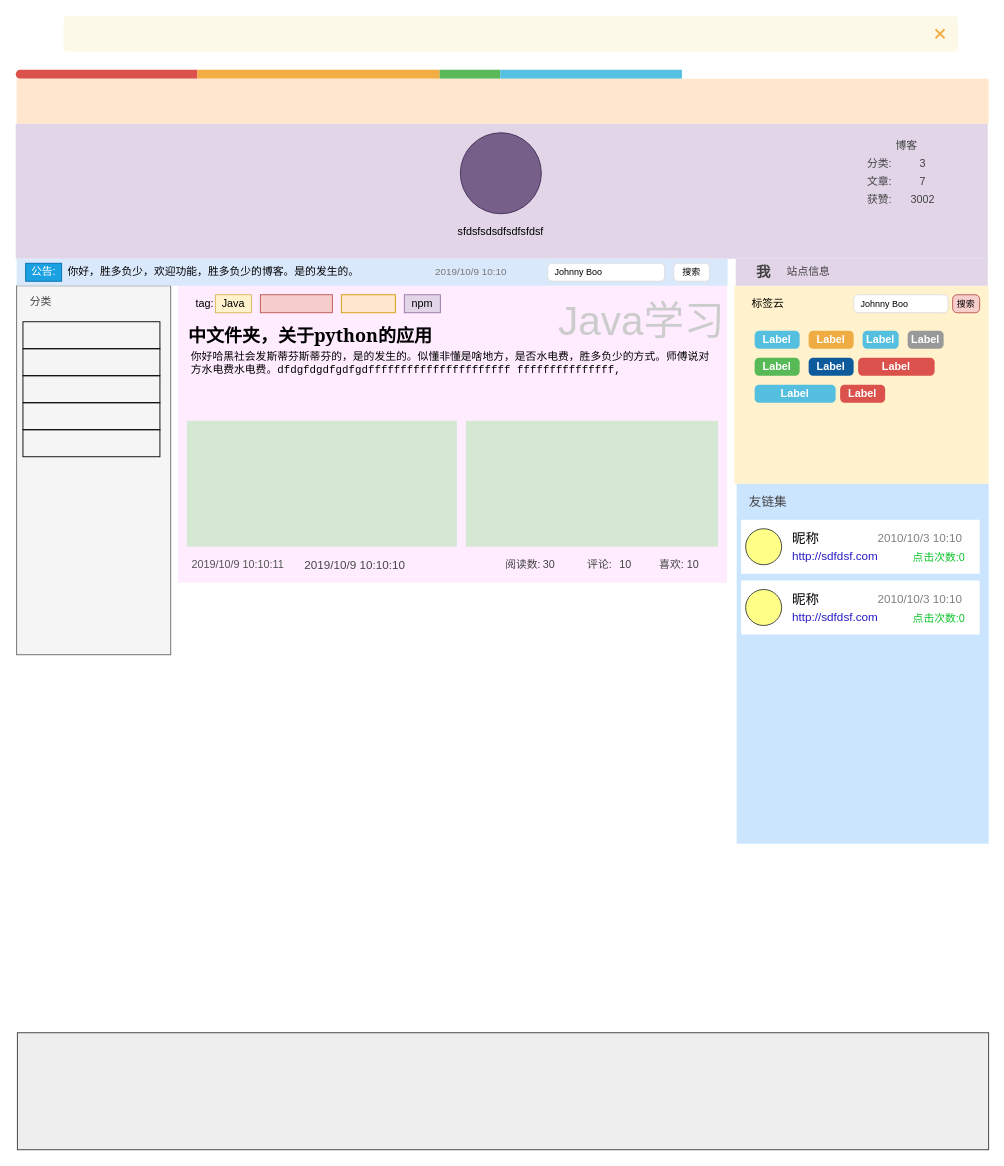
The diagram is 1004 pixels wide and 1166 high, and some of its shapes have lost their labels. The box of each missing label's shape, as (x1, y1, x2, y2) in pixels:
javascript: (340, 294, 395, 313)
Joy's Blog: (16, 78, 988, 123)
spring boot: (259, 294, 332, 313)
Warning! Better check yourself, you're not looking too good.: (63, 15, 958, 51)
